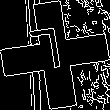L_S: (35, 28, 75, 82)
